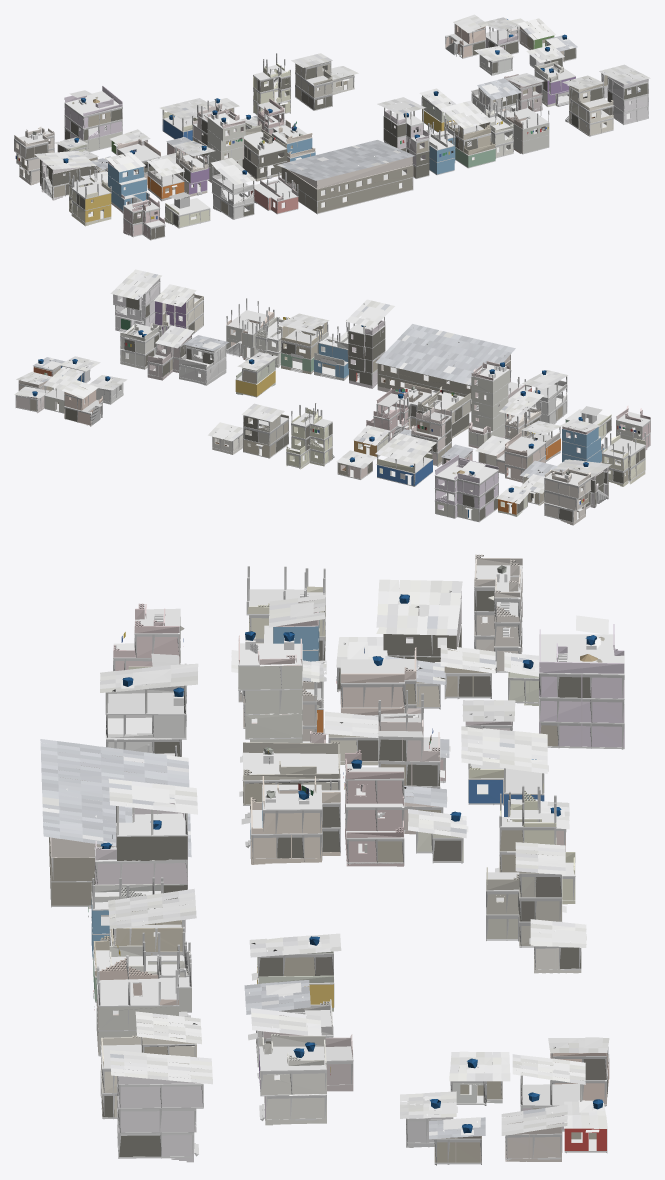
The picture shows the model from 3 angles, top to bottom: view 1: azimuth 30°, elevation 25°; view 2: azimuth 150°, elevation 25°; view 3: azimuth 270°, elevation 25°; orthographic projection. The views are drawn at different scales.
Parts seen in each view (by area): view 1: T_27_22; view 2: T_27_22; view 3: T_27_22.
Boxes of the visible parts, left/top/right/bottom form: T_27_22: left=14, top=14, right=650, bottom=240; T_27_22: left=14, top=269, right=650, bottom=525; T_27_22: left=40, top=554, right=624, bottom=1165.
Size of the model in its own units: 132 by 17.61 by 61.82.
